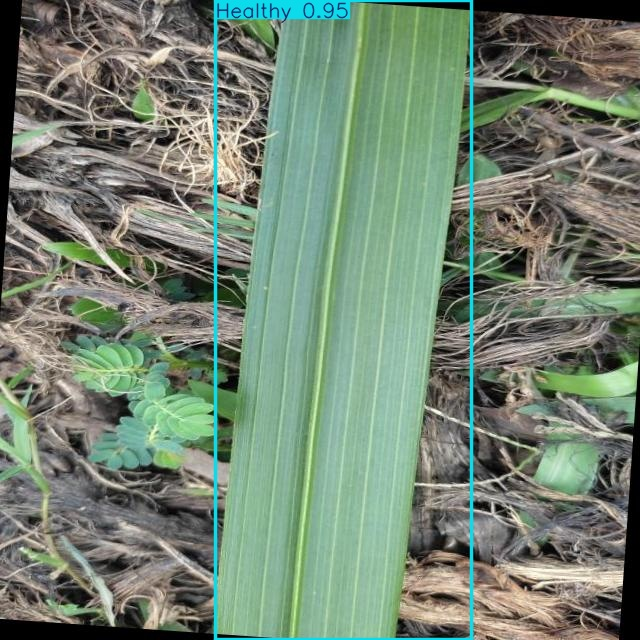Healthy: (216, 0, 471, 640)
